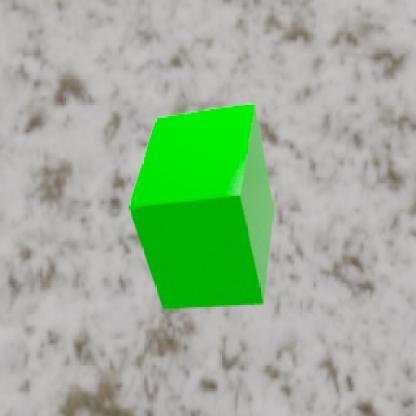cube: (127, 101, 274, 310)
